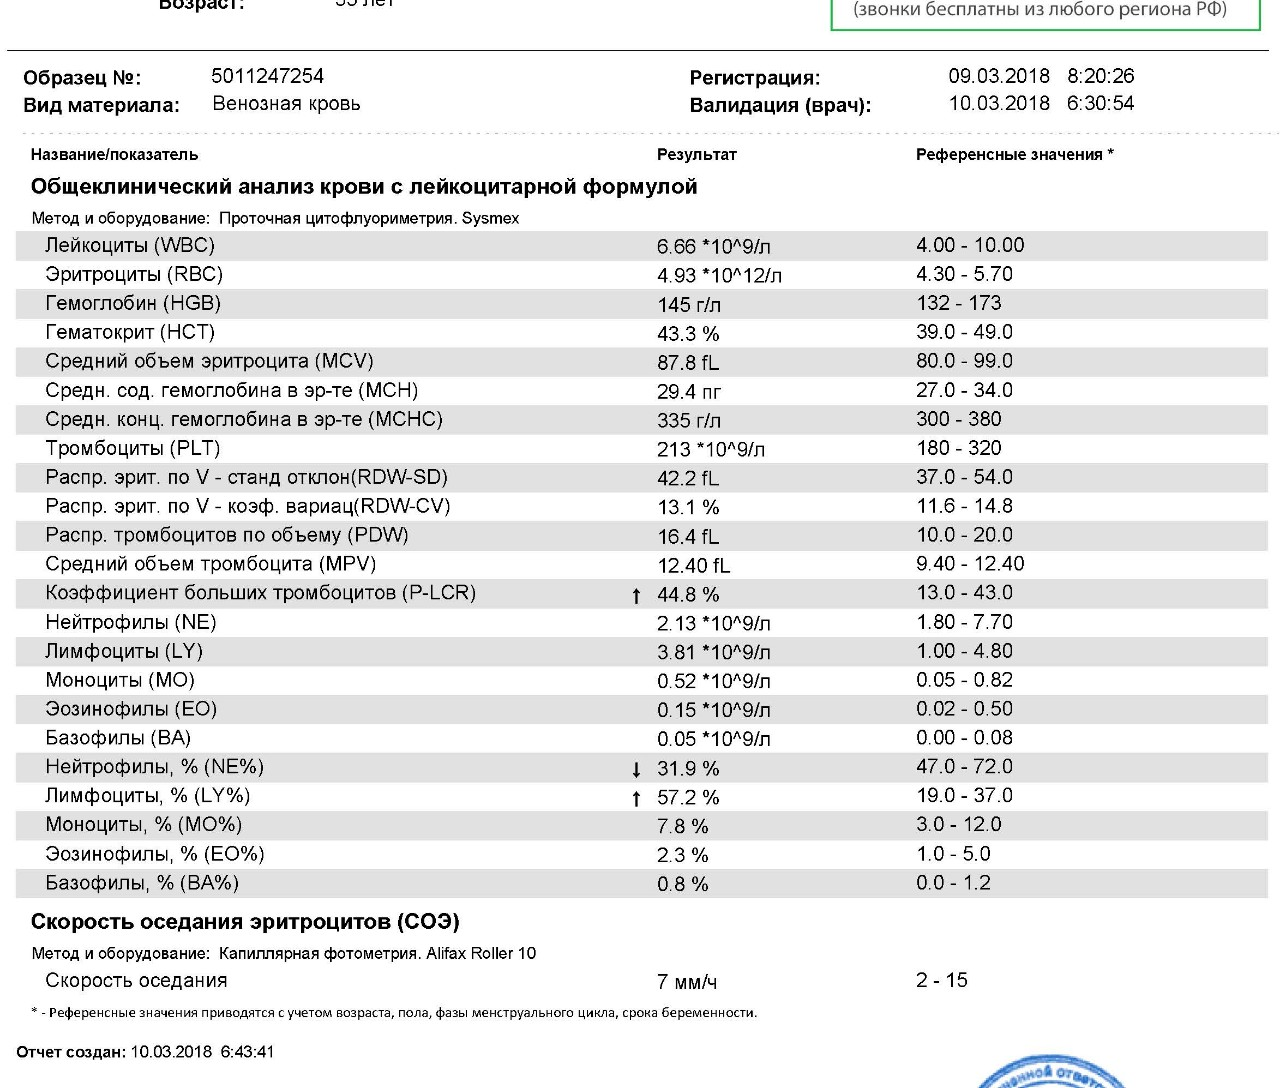column: (44, 236, 475, 892), (656, 236, 782, 892), (916, 236, 1024, 892), (45, 970, 227, 988), (916, 147, 1102, 162), (31, 147, 198, 162), (657, 147, 737, 162), (657, 970, 716, 988), (916, 970, 967, 988)
